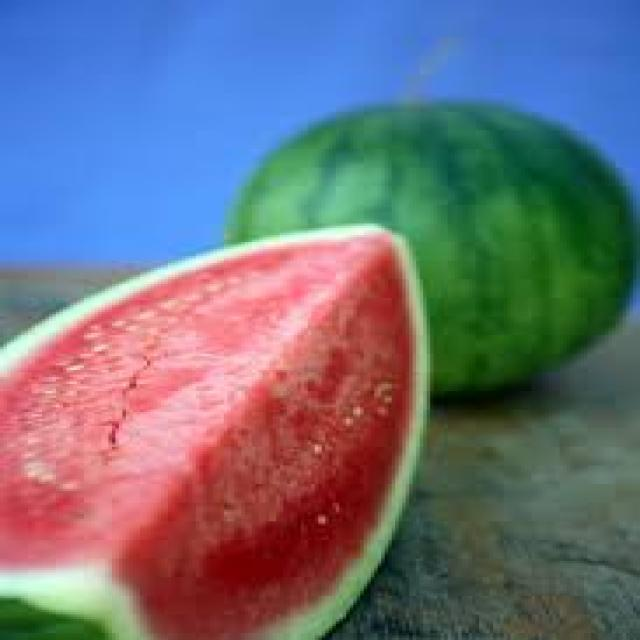watermelon: (0, 221, 430, 638), (220, 96, 636, 400)
